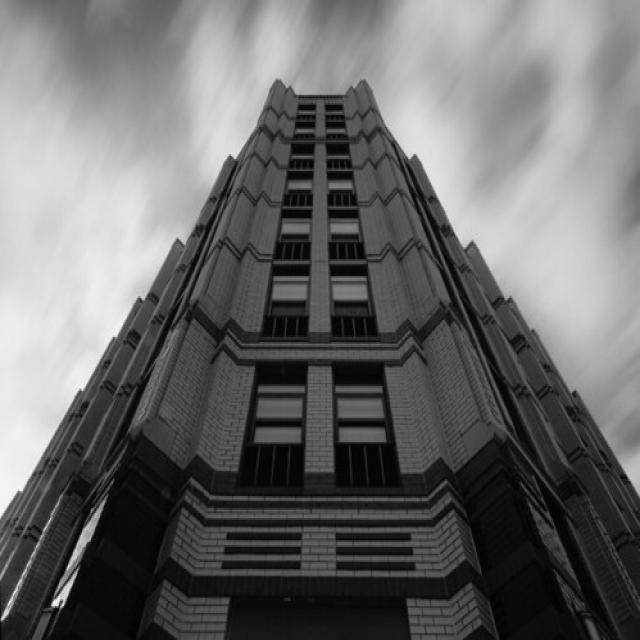building: (6, 67, 639, 640)
